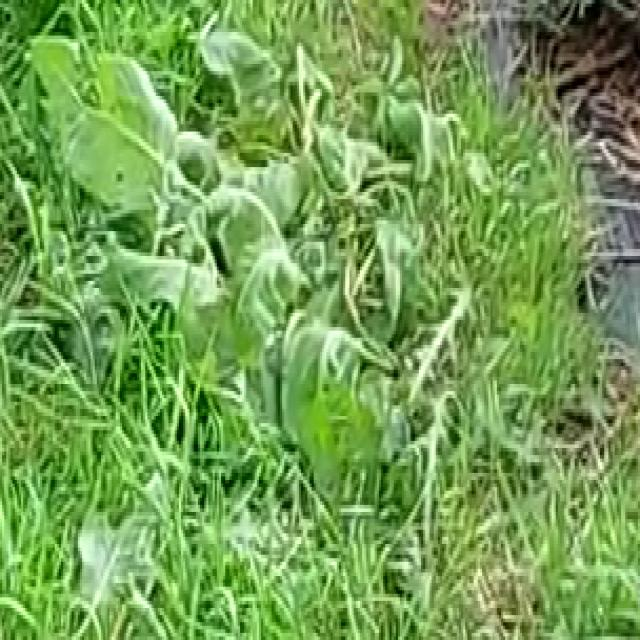organic waste: (183, 7, 459, 505), (4, 0, 215, 334), (27, 423, 198, 640)
